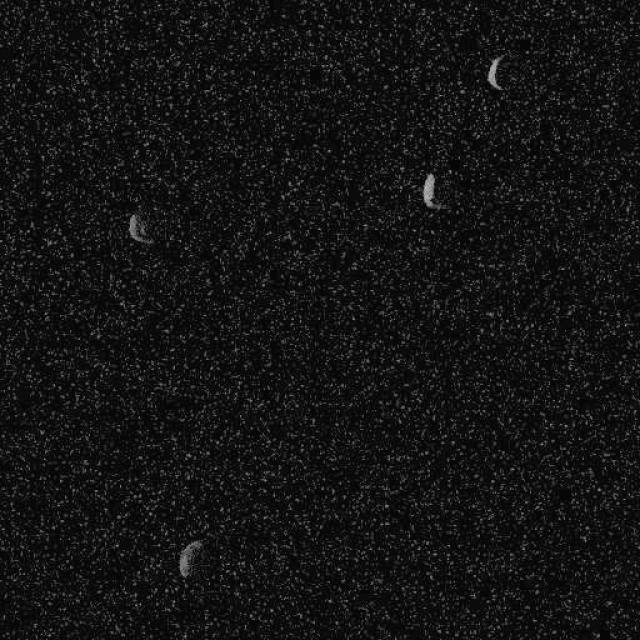D2: (177, 539, 205, 579), (420, 170, 446, 210), (126, 211, 154, 245), (485, 54, 505, 91)
